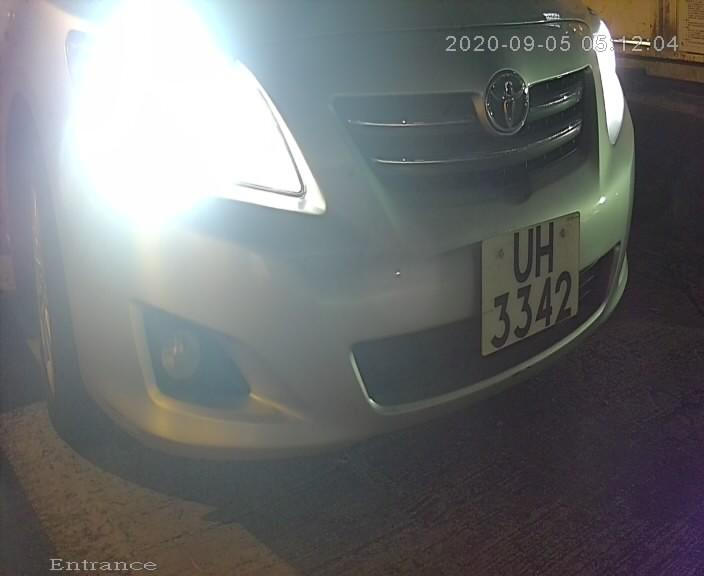License Plate: (475, 191, 591, 373)
